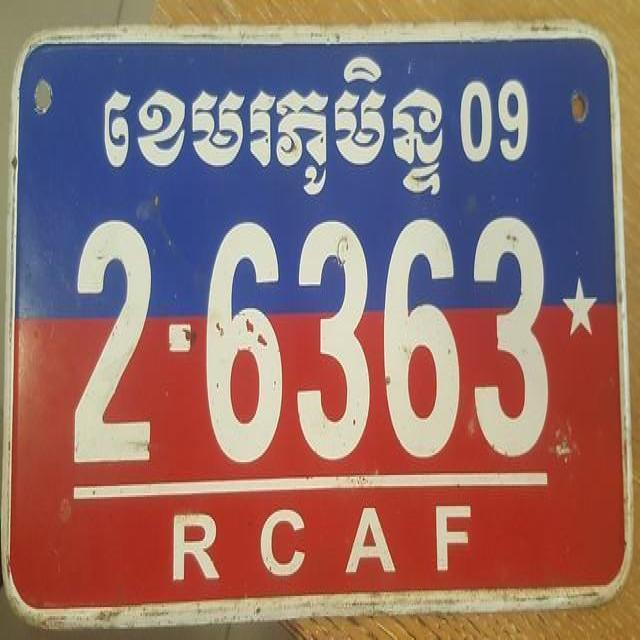RCAF: (99, 52, 448, 204)
